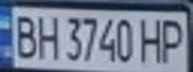0: (115, 15, 139, 63)
3: (60, 12, 84, 62)
4: (97, 15, 118, 63)
7: (78, 14, 100, 62)
B: (9, 11, 39, 60)
H: (136, 15, 166, 64), (33, 11, 60, 61)
P: (157, 15, 190, 64)
